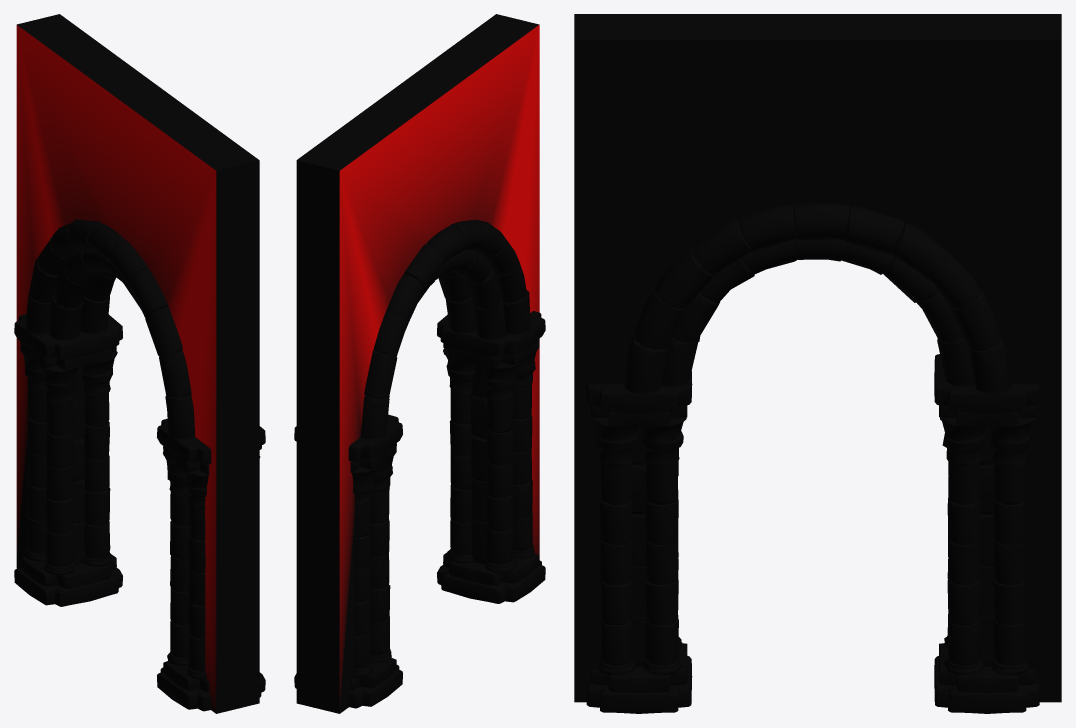
Rendered from SM_ArchWall_Entrance_ColumnG_4x6_B.glb.
3 views of the same model, side by side, from view 1: azimuth 30°, elevation 25°; view 2: azimuth 150°, elevation 25°; view 3: azimuth 270°, elevation 25° (orthographic). The views are drawn at different scales.
Visible parts, largest first — view 1: SM_ArchWall_Entrance_ColumnG_4x6_B_LOD0; view 2: SM_ArchWall_Entrance_ColumnG_4x6_B_LOD0; view 3: SM_ArchWall_Entrance_ColumnG_4x6_B_LOD0.
Boxes of the visible parts, <box> form: SM_ArchWall_Entrance_ColumnG_4x6_B_LOD0: <box>14,14,265,713</box>; SM_ArchWall_Entrance_ColumnG_4x6_B_LOD0: <box>294,14,545,713</box>; SM_ArchWall_Entrance_ColumnG_4x6_B_LOD0: <box>574,14,1061,713</box>.
Bounding box in the file's own units: 0.9163 × 6.01 × 4.
